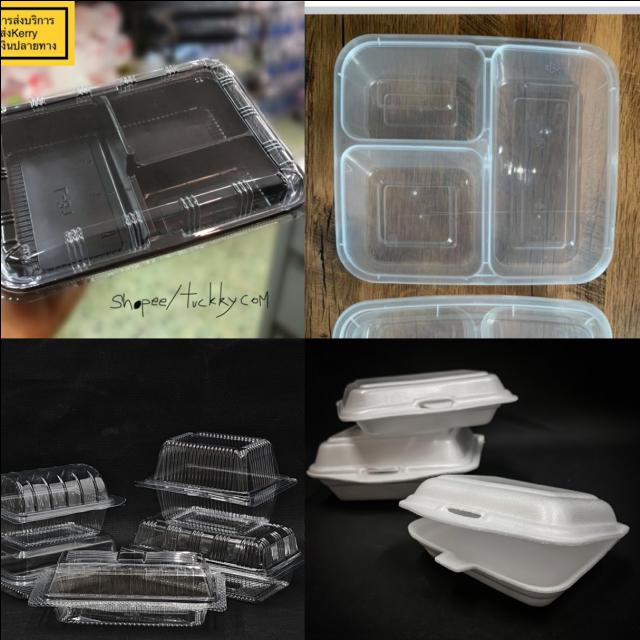plastik: (333, 34, 617, 283), (0, 59, 302, 293), (399, 473, 627, 604), (132, 506, 302, 601), (136, 431, 296, 530), (28, 548, 225, 625), (306, 424, 483, 500), (335, 369, 517, 435), (0, 463, 123, 547)
